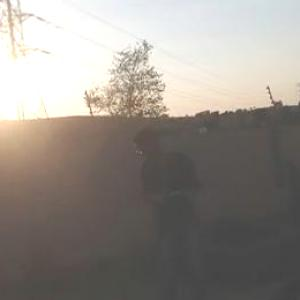follow: (129, 120, 204, 299)
